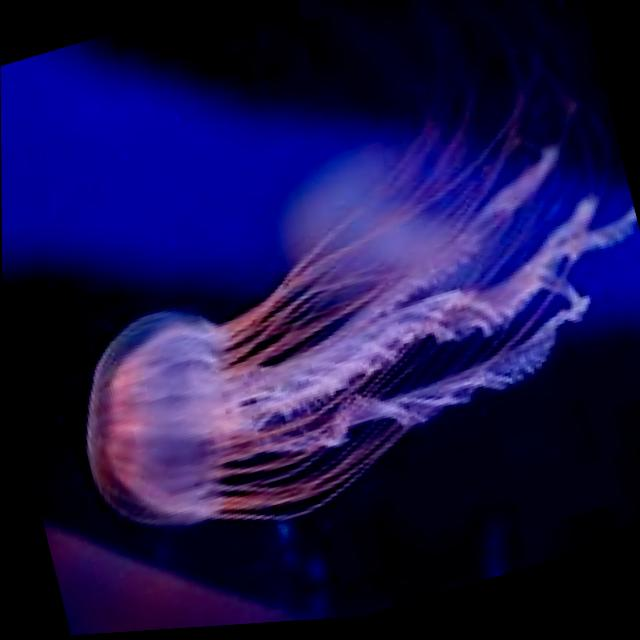Box-jellyfish: (18, 24, 640, 580)
